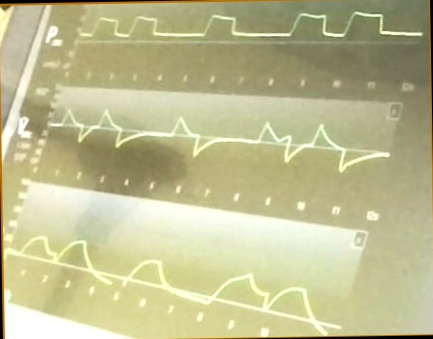Double_Triggering Flow: (52, 106, 389, 179)
Double_Triggering Volume: (12, 230, 328, 335)
